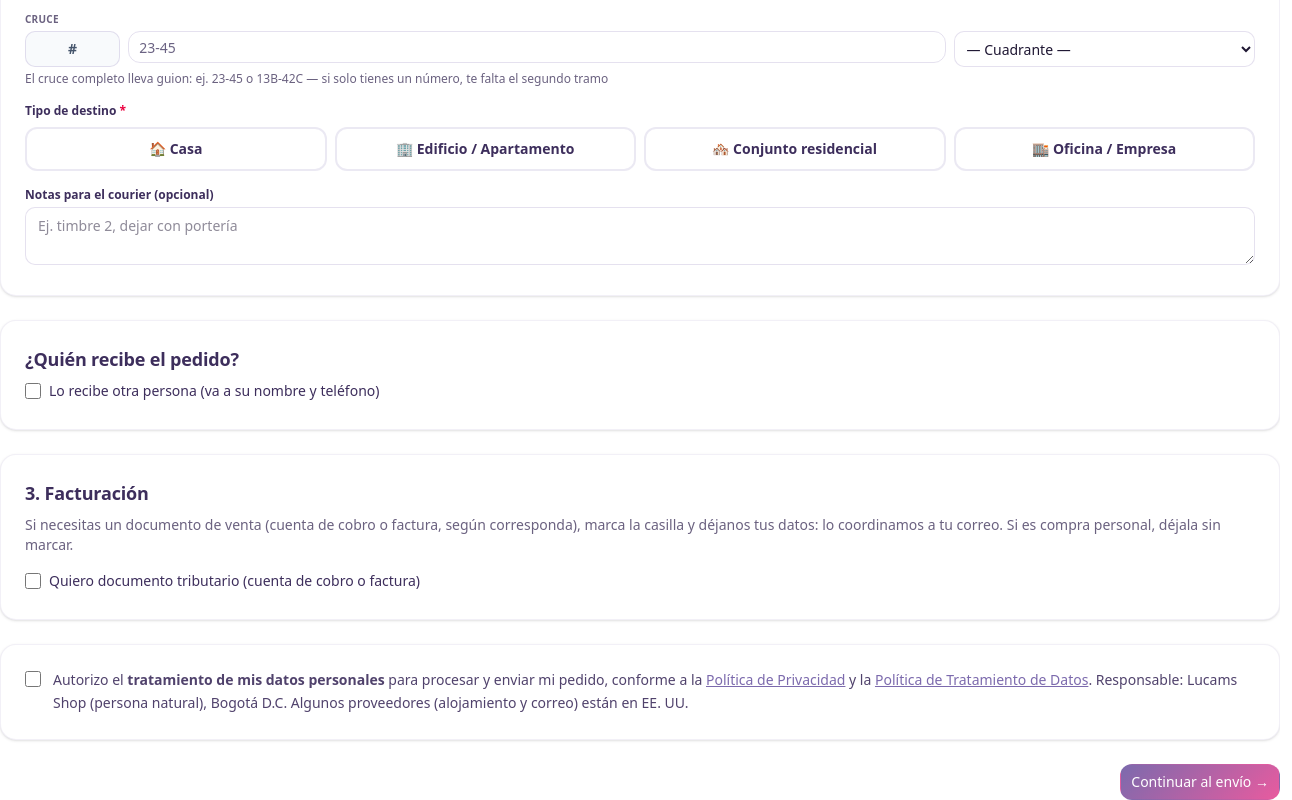
DatosForm — 'Usar los datos del comprador' (facturación, flag ON) › los campos de facturación conservan los names que espera saveDatosAction
(page scrolled)
Click the checkbox named "wantsInvoice" at {"x": 33, "y": 581}, box [25,573,41,589]
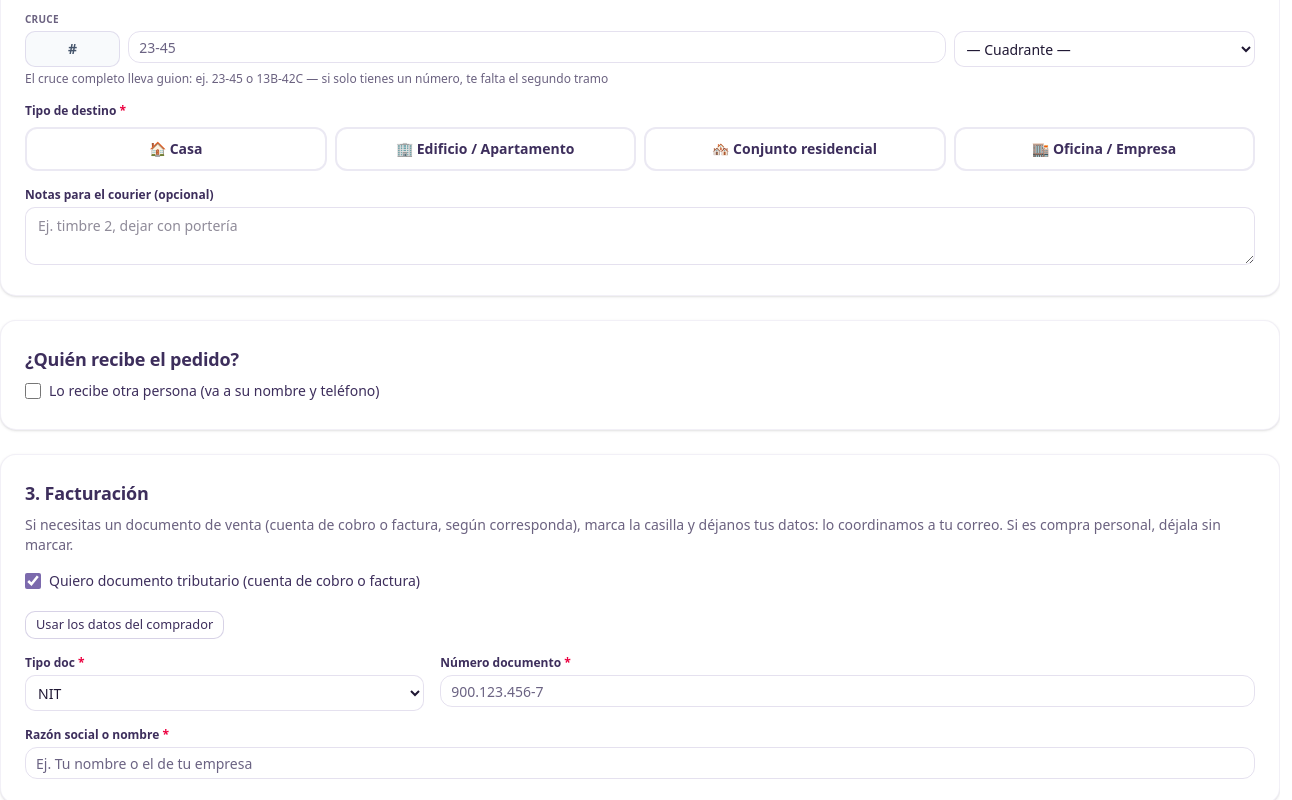
Expected: the dropdown named "billingDocumentType" is shown, [25,675,424,711]
Expected: the field named "billingDocumentNumber" is shown, [440,675,1255,707]
Expected: the field named "billingName" is shown, [25,747,1255,779]
